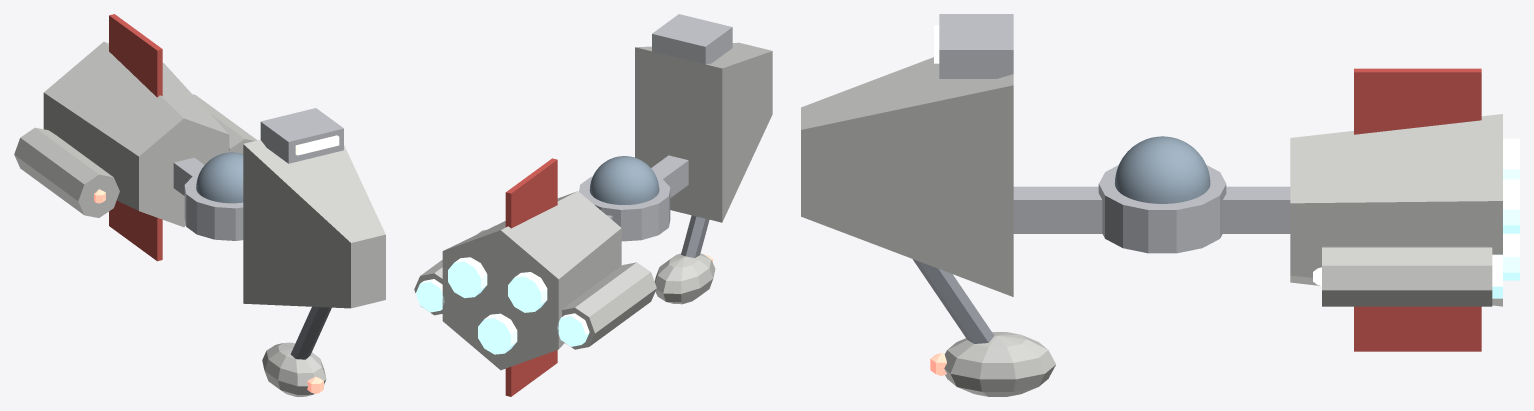
File: frigate.glb
3 views of the same model, side by side, from view 1: azimuth 30°, elevation 25°; view 2: azimuth 150°, elevation 25°; view 3: azimuth 270°, elevation 25° (orthographic). The views are drawn at different scales.
Parts seen in each view (by area): view 1: frigate, dome.001; view 2: frigate, dome.001; view 3: frigate, dome.001.
Boxes of the visible parts, left/top/right/bottom form: frigate: left=14, top=14, right=385, bottom=396; dome.001: left=196, top=152, right=243, bottom=203; frigate: left=414, top=14, right=772, bottom=396; dome.001: left=589, top=156, right=659, bottom=204; frigate: left=801, top=14, right=1519, bottom=396; dome.001: left=1114, top=136, right=1210, bottom=203.
Bounding box in the file's own units: 2.7 × 3.75 × 6.76.
